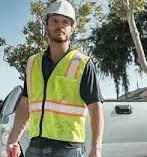helmet: (44, 0, 75, 20)
